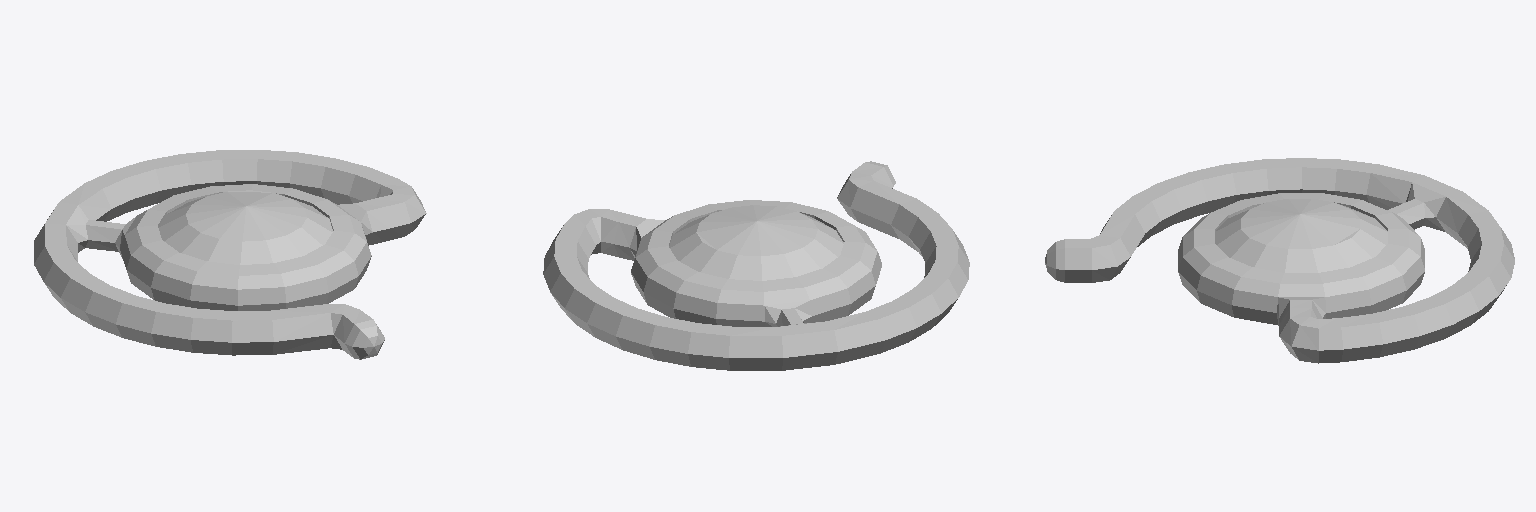
The model's file is BR_Unown-Shiny04.obj.
3 views of the same model, side by side, from view 1: azimuth 30°, elevation 25°; view 2: azimuth 150°, elevation 25°; view 3: azimuth 270°, elevation 25° (orthographic).
Visible parts, largest first — view 1: unknown_c; view 2: unknown_c; view 3: unknown_c.
Boxes of the visible parts, <box> form: unknown_c: <box>34,150,426,359</box>; unknown_c: <box>543,161,969,370</box>; unknown_c: <box>1045,158,1514,363</box>.
Size of the model in its own units: 3.94 by 0.8603 by 4.35.